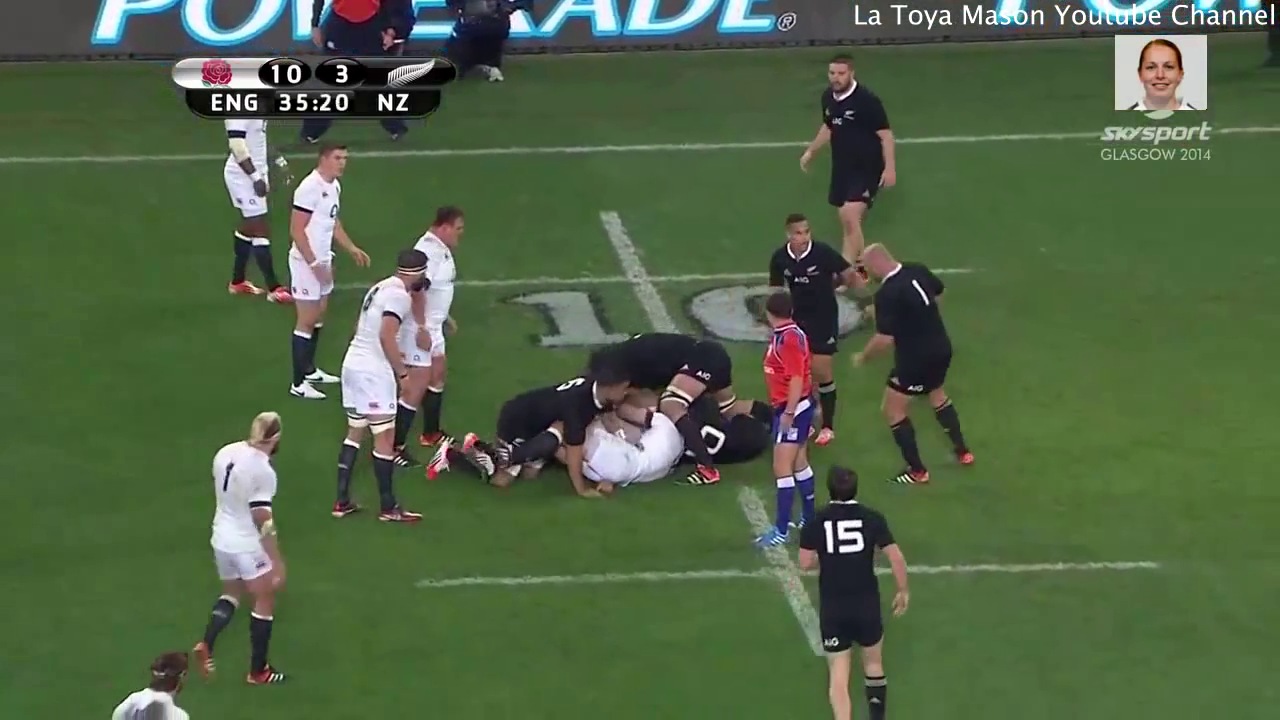10_metre: (412, 478, 1182, 672), (294, 190, 992, 380)
player: (172, 407, 310, 697), (847, 227, 984, 484), (570, 326, 780, 492), (317, 240, 433, 539), (792, 452, 915, 720), (269, 132, 383, 412), (372, 189, 473, 482), (789, 48, 909, 286), (418, 364, 635, 490), (749, 205, 849, 452), (419, 405, 683, 497), (746, 285, 827, 560), (203, 110, 285, 304), (92, 641, 198, 720)
ruck: (435, 315, 781, 501)
